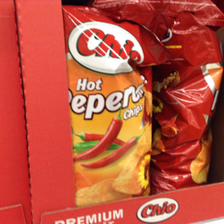chips: (61, 14, 155, 208)
